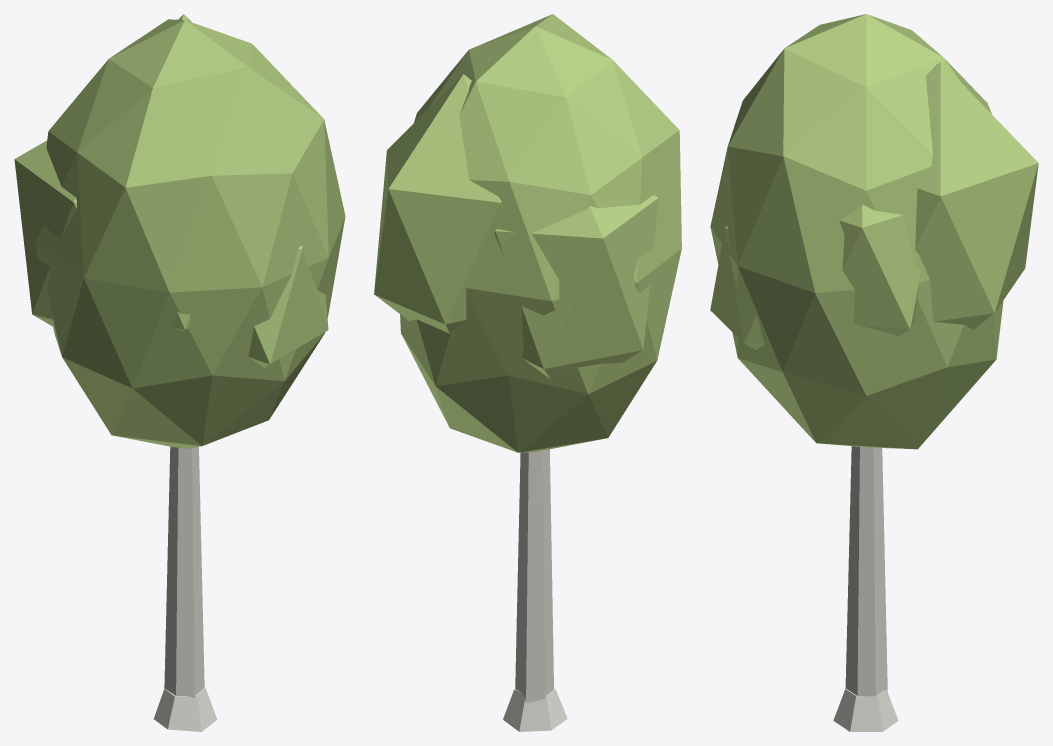
Rendered from tree_birch_b.glb.
3 renders of one model, left to right at view 1: azimuth 30°, elevation 25°; view 2: azimuth 150°, elevation 25°; view 3: azimuth 270°, elevation 25°, orthographic.
Visible parts, largest first — view 1: tree_birch_b; view 2: tree_birch_b; view 3: tree_birch_b.
Part boxes in pixels (bbox=[...]): tree_birch_b: bbox=[14, 14, 345, 731]; tree_birch_b: bbox=[374, 14, 681, 731]; tree_birch_b: bbox=[710, 14, 1038, 731].
Bounding box in the file's own units: 2.25 × 5.65 × 2.38.
